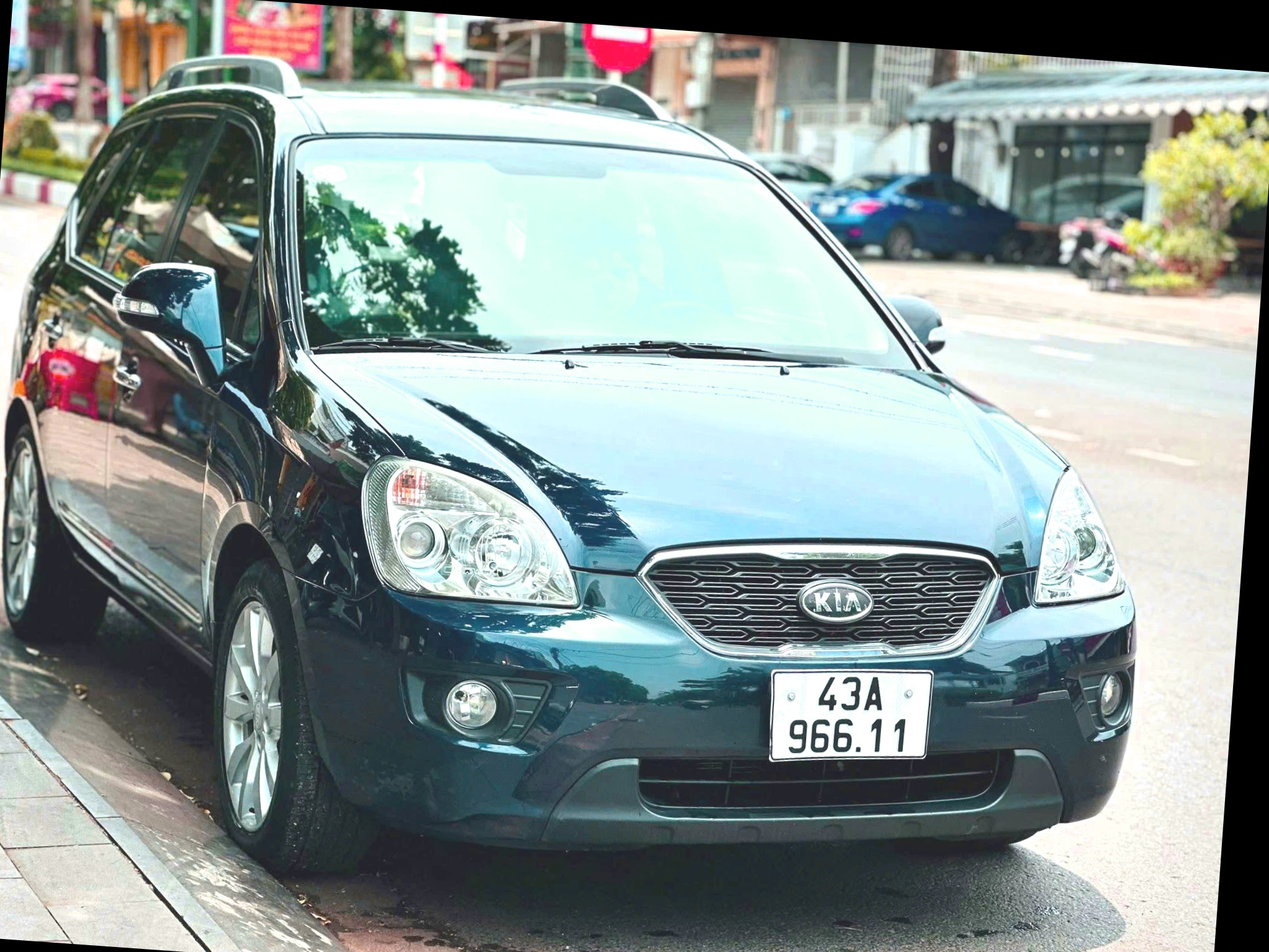Bien-so: (775, 663, 930, 765)
